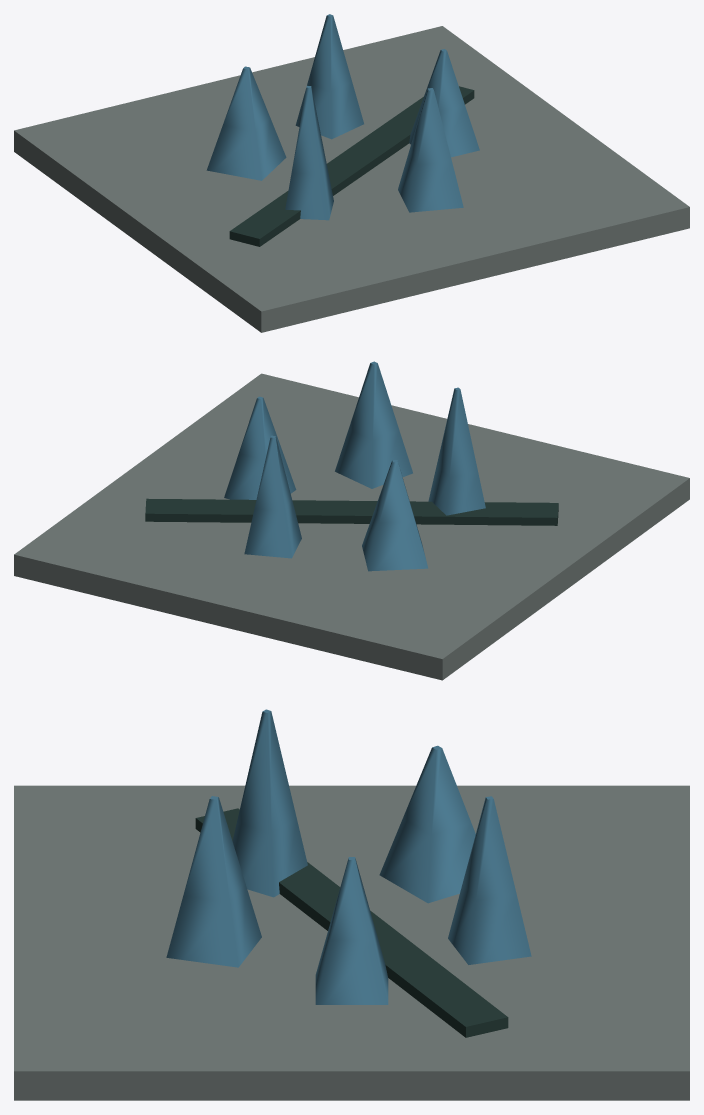
Rendered from node_ling_mai.glb.
3 views of the same model, one above another, from view 1: azimuth 30°, elevation 25°; view 2: azimuth 150°, elevation 25°; view 3: azimuth 270°, elevation 25° (orthographic). The views are drawn at different scales.
Parts seen in each view (by area): view 1: _MeshInstance3D_304, _MeshInstance3D_310, _MeshInstance3D_308, _MeshInstance3D_306, _MeshInstance3D_309, _MeshInstance3D_307, _MeshInstance3D_305; view 2: _MeshInstance3D_304, _MeshInstance3D_310, _MeshInstance3D_306, _MeshInstance3D_308, _MeshInstance3D_307, _MeshInstance3D_309, _MeshInstance3D_305; view 3: _MeshInstance3D_304, _MeshInstance3D_306, _MeshInstance3D_308, _MeshInstance3D_310, _MeshInstance3D_307, _MeshInstance3D_309, _MeshInstance3D_305.
Part boxes in pixels (x1=…): _MeshInstance3D_304: x1=14, y1=26, x2=689, y2=332; _MeshInstance3D_310: x1=229, y1=86, x2=474, y2=246; _MeshInstance3D_308: x1=206, y1=66, x2=286, y2=180; _MeshInstance3D_306: x1=398, y1=88, x2=463, y2=212; _MeshInstance3D_309: x1=295, y1=14, x2=363, y2=139; _MeshInstance3D_307: x1=285, y1=85, x2=333, y2=220; _MeshInstance3D_305: x1=409, y1=49, x2=479, y2=157; _MeshInstance3D_304: x1=14, y1=373, x2=689, y2=680; _MeshInstance3D_310: x1=145, y1=498, x2=558, y2=525; _MeshInstance3D_306: x1=335, y1=361, x2=412, y2=488; _MeshInstance3D_308: x1=362, y1=460, x2=428, y2=571; _MeshInstance3D_307: x1=428, y1=387, x2=485, y2=515; _MeshInstance3D_309: x1=244, y1=435, x2=301, y2=558; _MeshInstance3D_305: x1=224, y1=396, x2=296, y2=499; _MeshInstance3D_304: x1=14, y1=785, x2=689, y2=1100; _MeshInstance3D_306: x1=166, y1=796, x2=261, y2=967; _MeshInstance3D_308: x1=379, y1=745, x2=475, y2=903; _MeshInstance3D_310: x1=195, y1=808, x2=508, y2=1037; _MeshInstance3D_307: x1=232, y1=709, x2=307, y2=897; _MeshInstance3D_309: x1=448, y1=796, x2=531, y2=964; _MeshInstance3D_305: x1=315, y1=857, x2=388, y2=1004.
Size of the model in its own units: 0.84 by 0.3 by 0.84.
